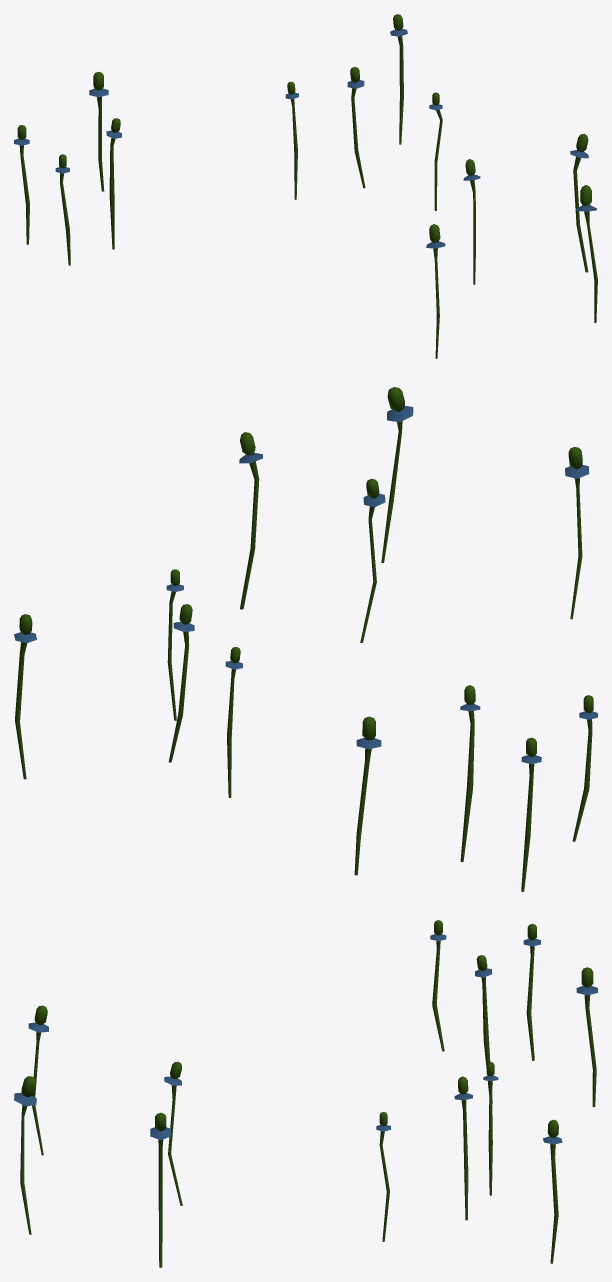
The model's file is parsiTendrilSpikes02.FBX.
3 views of the same model, one above another, from view 1: azimuth 30°, elevation 25°; view 2: azimuth 150°, elevation 25°; view 3: azimuth 270°, elevation 25° (orthographic). The views are drawn at different scales.
Visible parts, largest first — view 1: parsiTendrilSpikes02_LOD0; view 2: parsiTendrilSpikes02_LOD0; view 3: parsiTendrilSpikes02_LOD0.
Boxes of the visible parts, x1,y1,x2,y2 form: parsiTendrilSpikes02_LOD0: (14, 14, 597, 358); parsiTendrilSpikes02_LOD0: (14, 387, 597, 891); parsiTendrilSpikes02_LOD0: (14, 920, 597, 1267).
Size of what is drawn, in the model's own units: 2.95 by 1.06 by 3.34.
